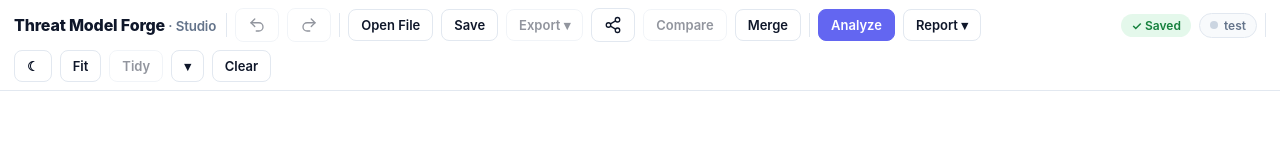
Test: Tidy menu › keeps labels-only cleanup available offline without promising a safe arrangement
Check: the button "Tidy" is disabled, box [109, 50, 163, 82]
Click the button named "Tidy options": click(187, 66) [171, 50, 204, 82]
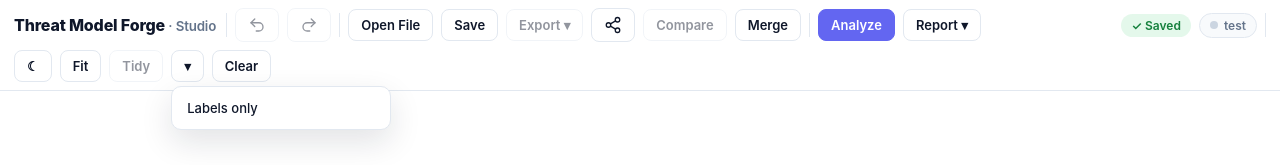
Check: the menu item "Labels only" is enabled, box [177, 92, 385, 124]
